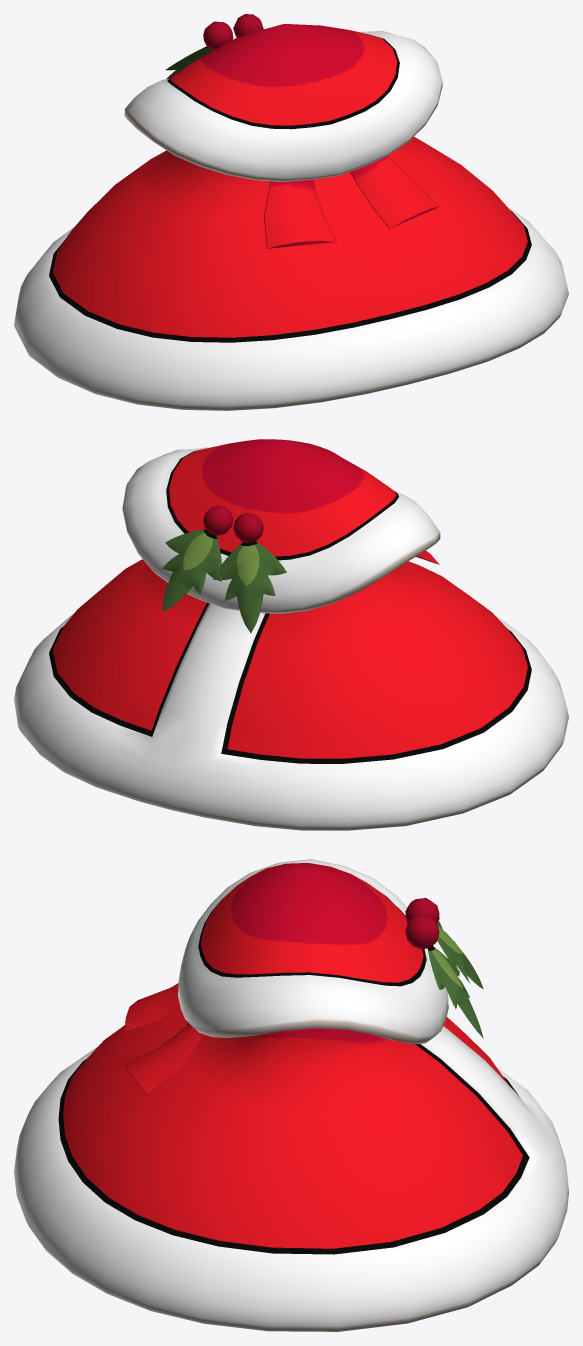
Rendered from cuerpo.obj.
The picture shows the model from 3 angles, top to bottom: view 1: azimuth 30°, elevation 25°; view 2: azimuth 150°, elevation 25°; view 3: azimuth 270°, elevation 25°; orthographic projection. The views are drawn at different scales.
Visible parts, largest first — view 1: Body_jinsters_padoru.006; view 2: Body_jinsters_padoru.006; view 3: Body_jinsters_padoru.006.
Part boxes in pixels (x1=…): Body_jinsters_padoru.006: x1=14, y1=14, x2=568, y2=410; Body_jinsters_padoru.006: x1=14, y1=439, x2=568, y2=830; Body_jinsters_padoru.006: x1=14, y1=859, x2=568, y2=1331.
Bounding box in the file's own units: 0.3823 × 0.2154 × 0.3271.
